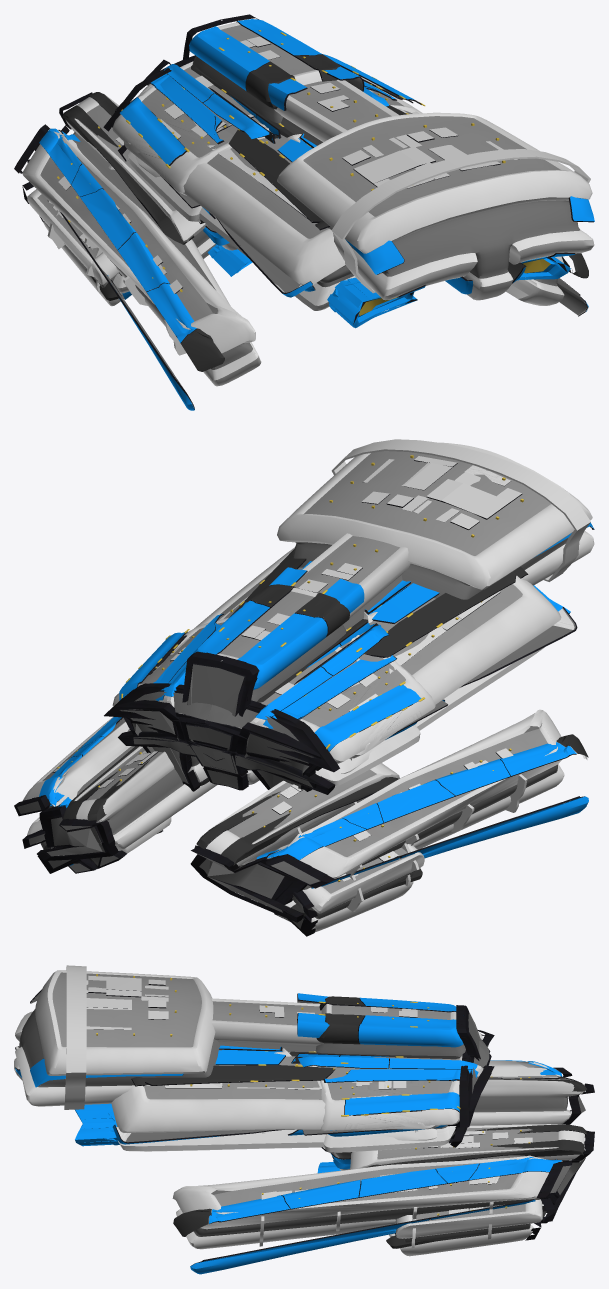
3 renders of one model, top to bottom at view 1: azimuth 30°, elevation 25°; view 2: azimuth 150°, elevation 25°; view 3: azimuth 270°, elevation 25°, orthographic. The views are drawn at different scales.
Visible parts, largest first — view 1: base-2, base-0, base-3, base-1, base-6, base-4, base-5; view 2: base-2, base-3, base-0, base-1, base-4, base-6, base-5; view 3: base-2, base-0, base-3, base-1, base-4, base-6, base-5.
Boxes of the visible parts, bbox=[...] form: base-2: bbox=[22, 22, 594, 386]; base-0: bbox=[39, 19, 594, 410]; base-3: bbox=[37, 25, 560, 321]; base-1: bbox=[64, 56, 587, 387]; base-6: bbox=[62, 54, 588, 371]; base-4: bbox=[14, 14, 594, 409]; base-5: bbox=[57, 30, 550, 315]; base-2: bbox=[22, 439, 594, 931]; base-3: bbox=[39, 451, 550, 893]; base-0: bbox=[39, 522, 593, 888]; base-1: bbox=[17, 538, 572, 928]; base-4: bbox=[14, 460, 594, 936]; base-6: bbox=[43, 549, 588, 916]; base-5: bbox=[57, 455, 523, 881]; base-2: bbox=[14, 965, 584, 1256]; base-0: bbox=[15, 993, 562, 1274]; base-3: bbox=[52, 972, 558, 1222]; base-1: bbox=[18, 998, 585, 1242]; base-4: bbox=[15, 984, 594, 1265]; base-6: bbox=[132, 996, 586, 1248]; base-5: bbox=[96, 974, 530, 1215].
Size of the model in its own units: 1.92 by 1.2 by 2.95.
7 materials, 7 textured.
